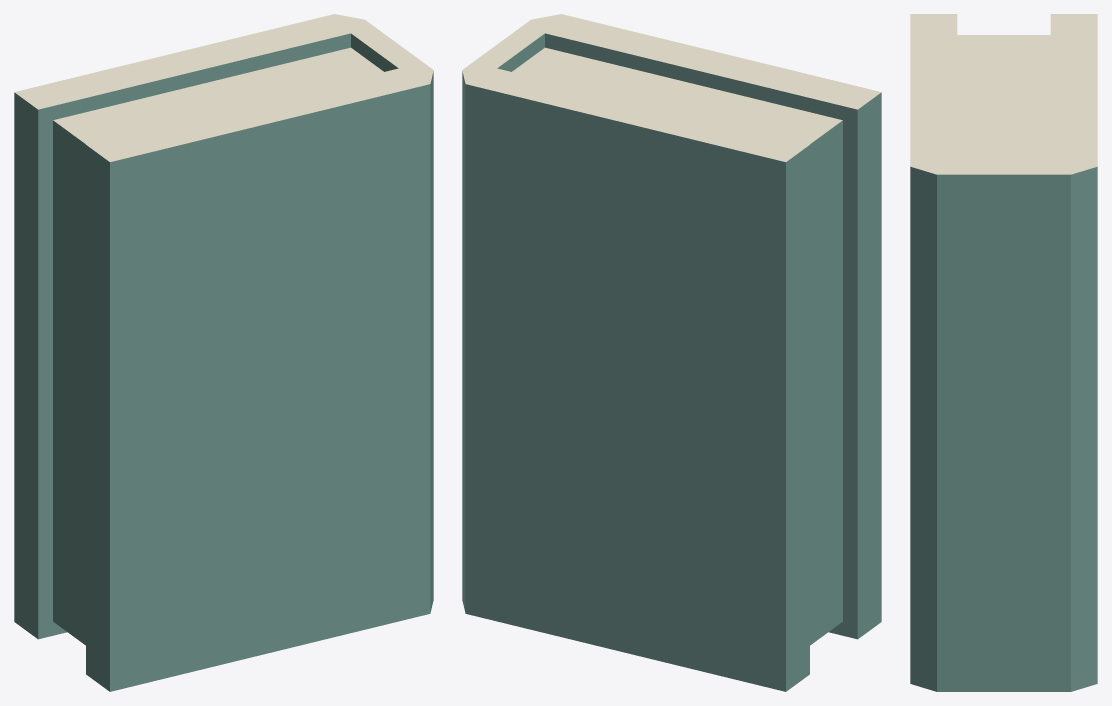
File: Book.fbx
3 views of the same model, side by side, from view 1: azimuth 30°, elevation 25°; view 2: azimuth 150°, elevation 25°; view 3: azimuth 270°, elevation 25° (orthographic). The views are drawn at different scales.
Visible parts, largest first — view 1: Cloth Book 01; view 2: Cloth Book 01; view 3: Cloth Book 01.
Boxes of the visible parts, bbox=[...] form: Cloth Book 01: bbox=[14, 14, 433, 691]; Cloth Book 01: bbox=[462, 14, 881, 691]; Cloth Book 01: bbox=[910, 14, 1097, 691].
Size of the model in its own units: 18.66 by 28 by 9.17.
